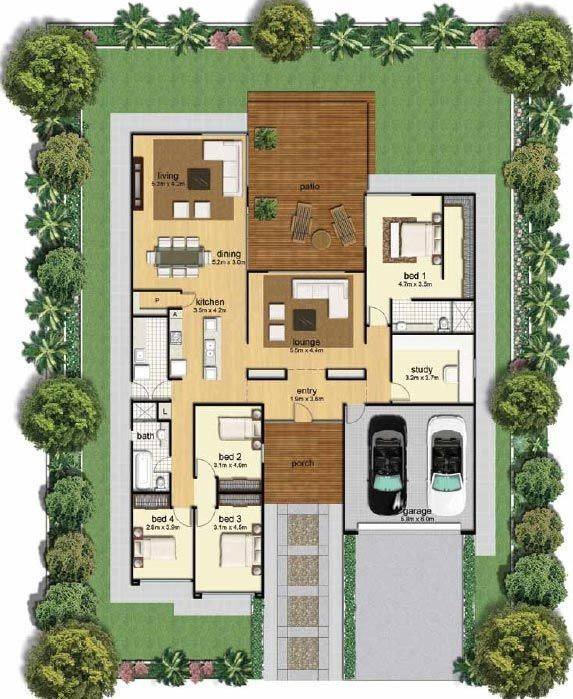room: (127, 129, 252, 294), (361, 188, 480, 302), (191, 400, 270, 497), (382, 331, 477, 407), (192, 504, 267, 598), (127, 490, 197, 586), (128, 398, 174, 497), (386, 296, 480, 337), (128, 311, 172, 385)
